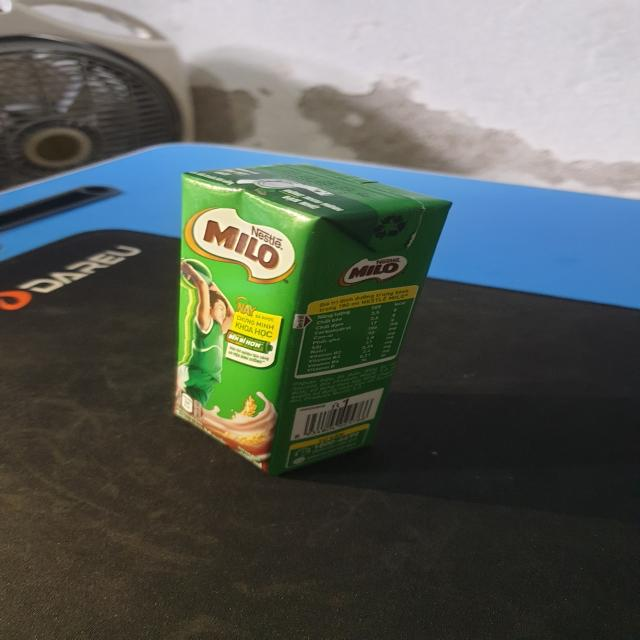Milo: (182, 166, 458, 480)
